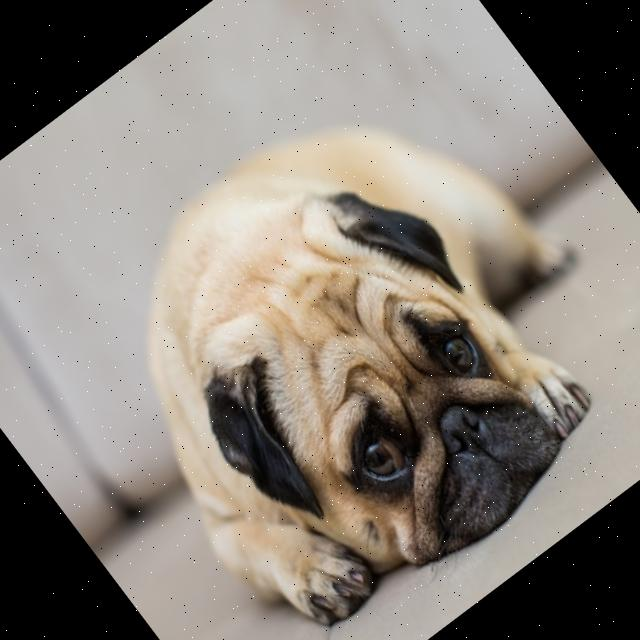Dog: (36, 32, 640, 640)
